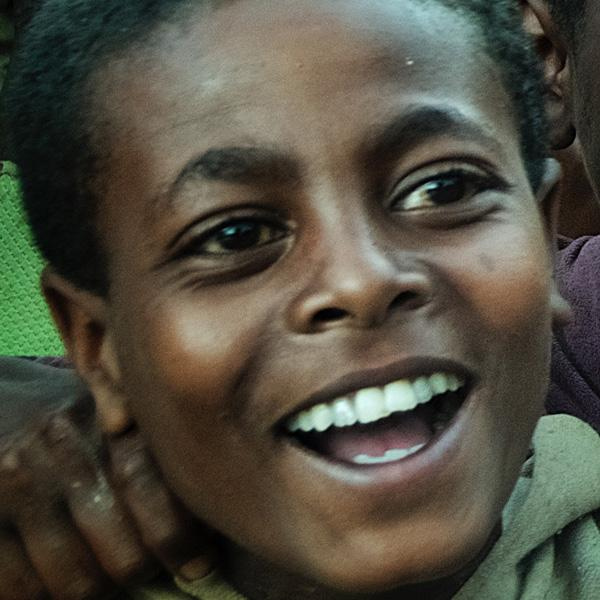Eyes: (168, 196, 302, 280), (386, 151, 504, 229)
